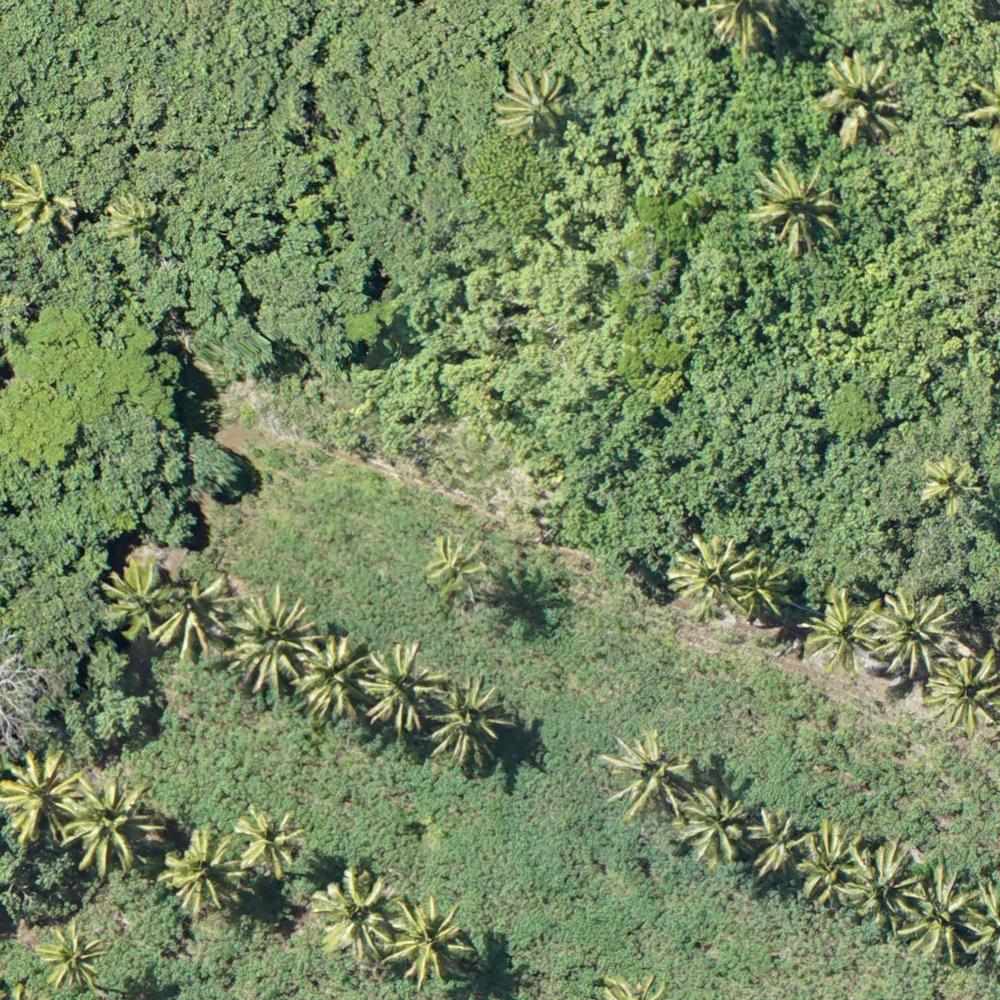Palm: (749, 162, 839, 255), (425, 681, 513, 773), (69, 777, 150, 875), (316, 872, 404, 960), (233, 594, 315, 688), (821, 56, 903, 148), (871, 588, 954, 676), (602, 733, 684, 817), (359, 645, 437, 728), (4, 754, 78, 841), (901, 866, 972, 954), (164, 831, 243, 910), (393, 900, 469, 981), (854, 840, 925, 926), (807, 586, 881, 667), (104, 557, 173, 642), (296, 638, 368, 717), (929, 655, 1000, 735), (35, 919, 111, 992), (671, 536, 746, 607), (161, 574, 229, 652), (679, 788, 752, 860), (800, 821, 864, 902), (8, 162, 79, 235), (498, 68, 571, 139), (234, 804, 308, 873), (920, 448, 984, 523), (745, 804, 803, 877), (424, 536, 489, 597), (100, 193, 154, 251)
